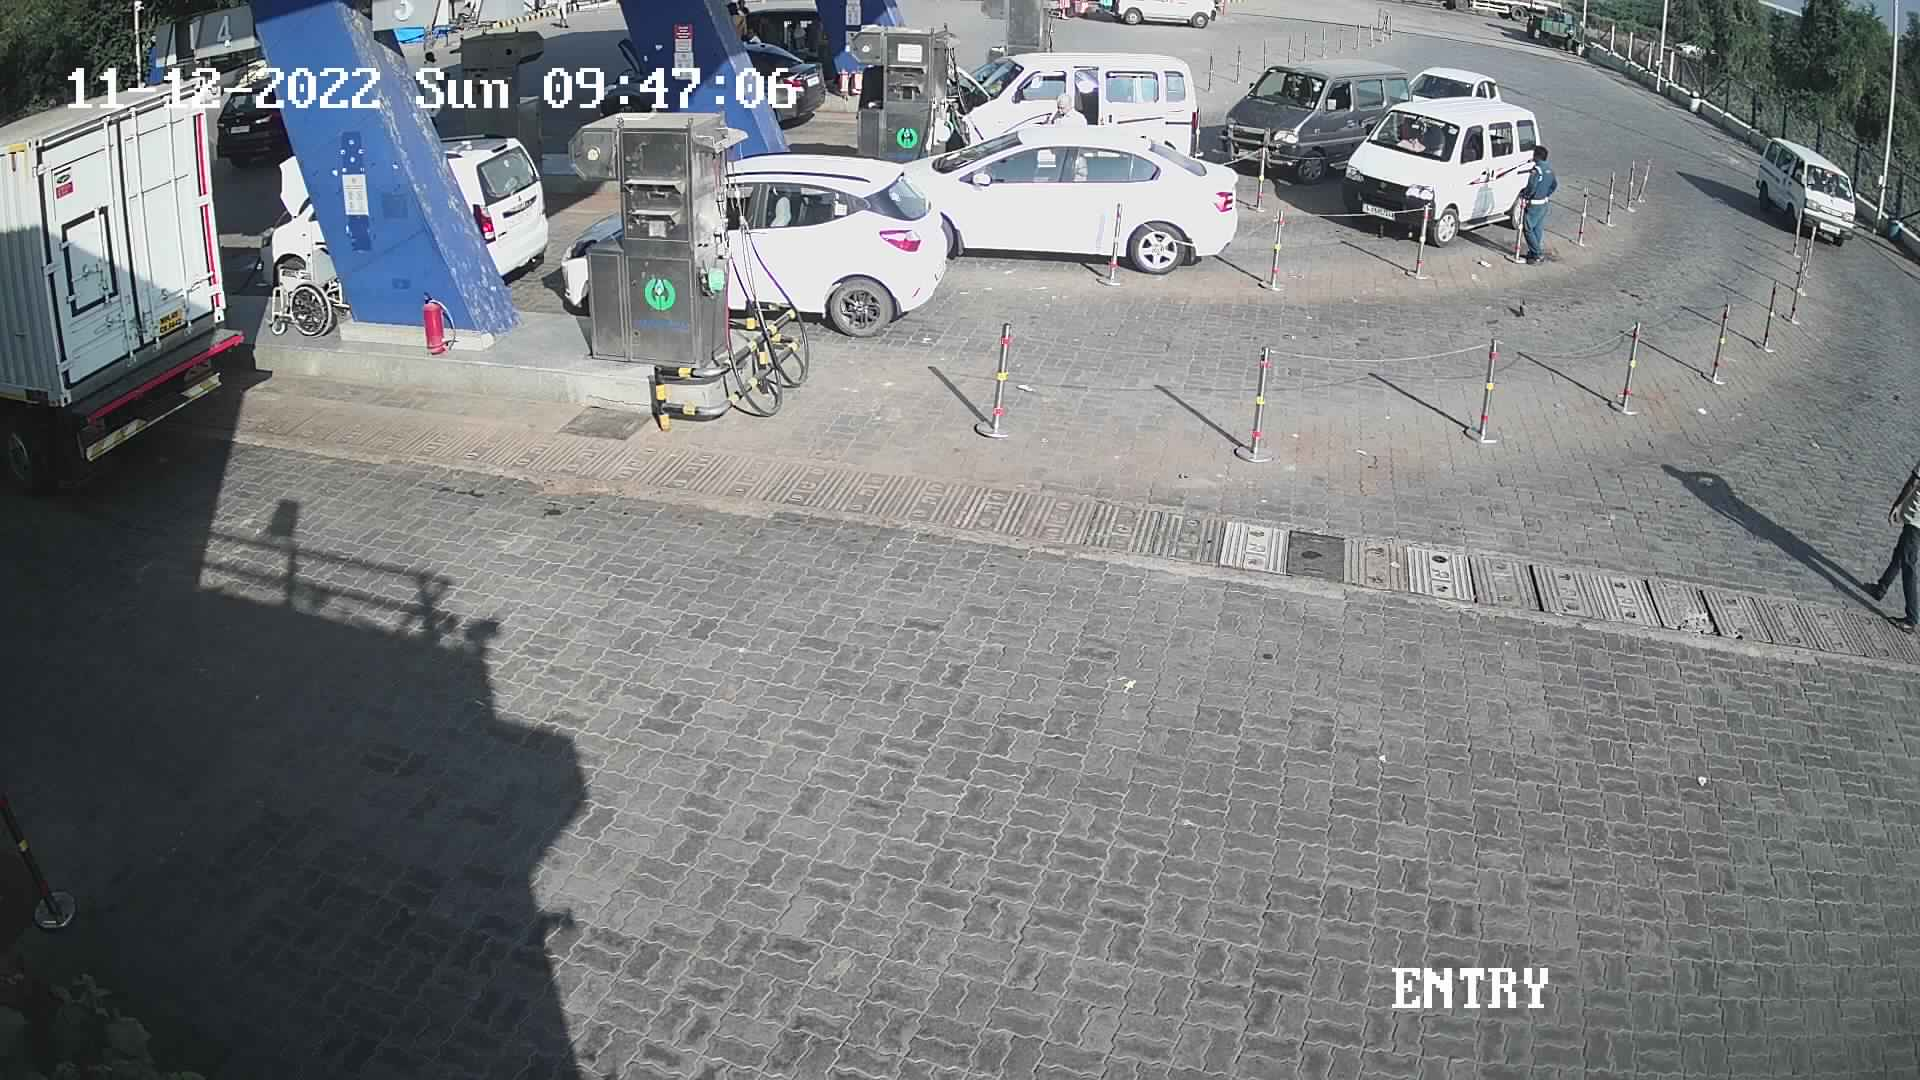Auto: (716, 0, 848, 102)
Car: (893, 94, 1251, 286), (712, 132, 968, 353), (1311, 76, 1557, 255), (931, 40, 1209, 171), (1213, 45, 1424, 187), (436, 121, 554, 314), (1753, 113, 1874, 266), (208, 55, 316, 193), (733, 29, 851, 142), (1382, 59, 1513, 116), (1073, 0, 1230, 37)
HMV: (0, 53, 270, 531)
